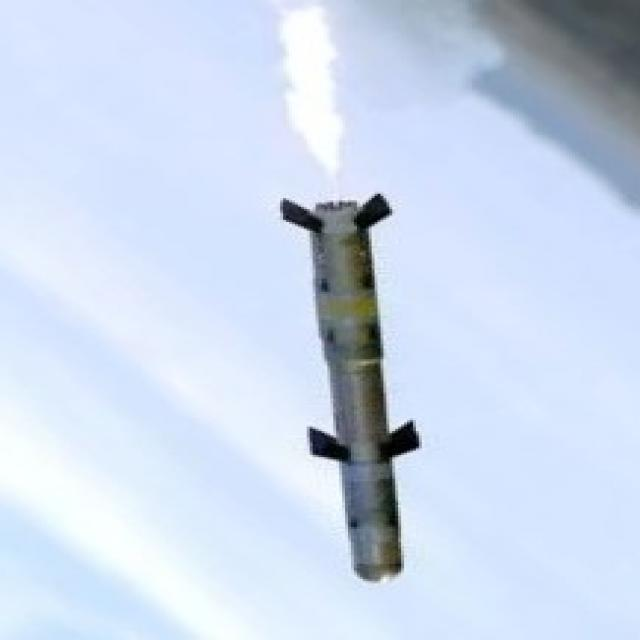missile: (319, 187, 415, 587)
